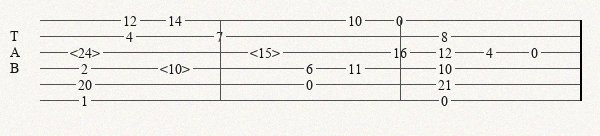0: (306, 77, 317, 91), (396, 13, 407, 27), (441, 93, 452, 107), (531, 45, 542, 59)
1: (81, 93, 92, 107)
10: (348, 13, 366, 27), (438, 61, 456, 75)
11: (348, 61, 366, 75)
12: (123, 13, 141, 27), (438, 45, 456, 59)
14: (168, 13, 186, 27)
16: (393, 45, 411, 59)
2: (81, 61, 92, 75)
20: (78, 77, 96, 91)
21: (438, 77, 456, 91)
4: (126, 29, 137, 43), (486, 45, 497, 59)
6: (306, 61, 317, 75)
7: (216, 29, 227, 43)
8: (441, 29, 452, 43)
harmonic: (70, 45, 104, 59), (160, 61, 194, 75), (250, 45, 284, 59)
